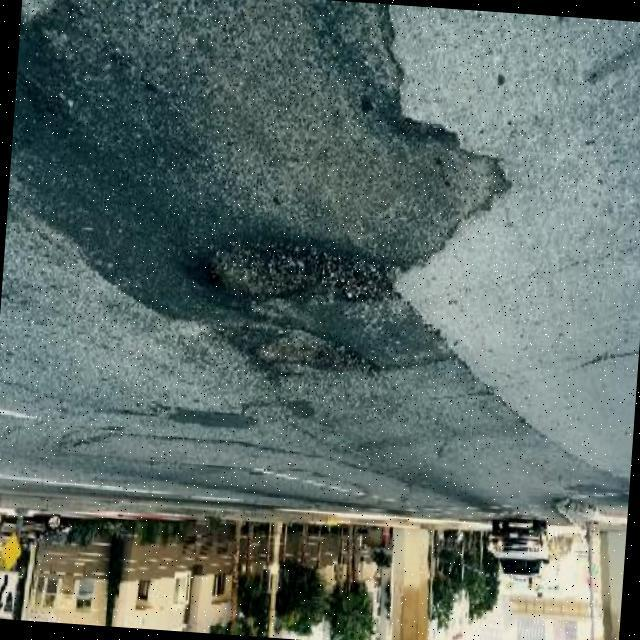Pothole: (208, 238, 398, 299), (215, 320, 382, 376)
